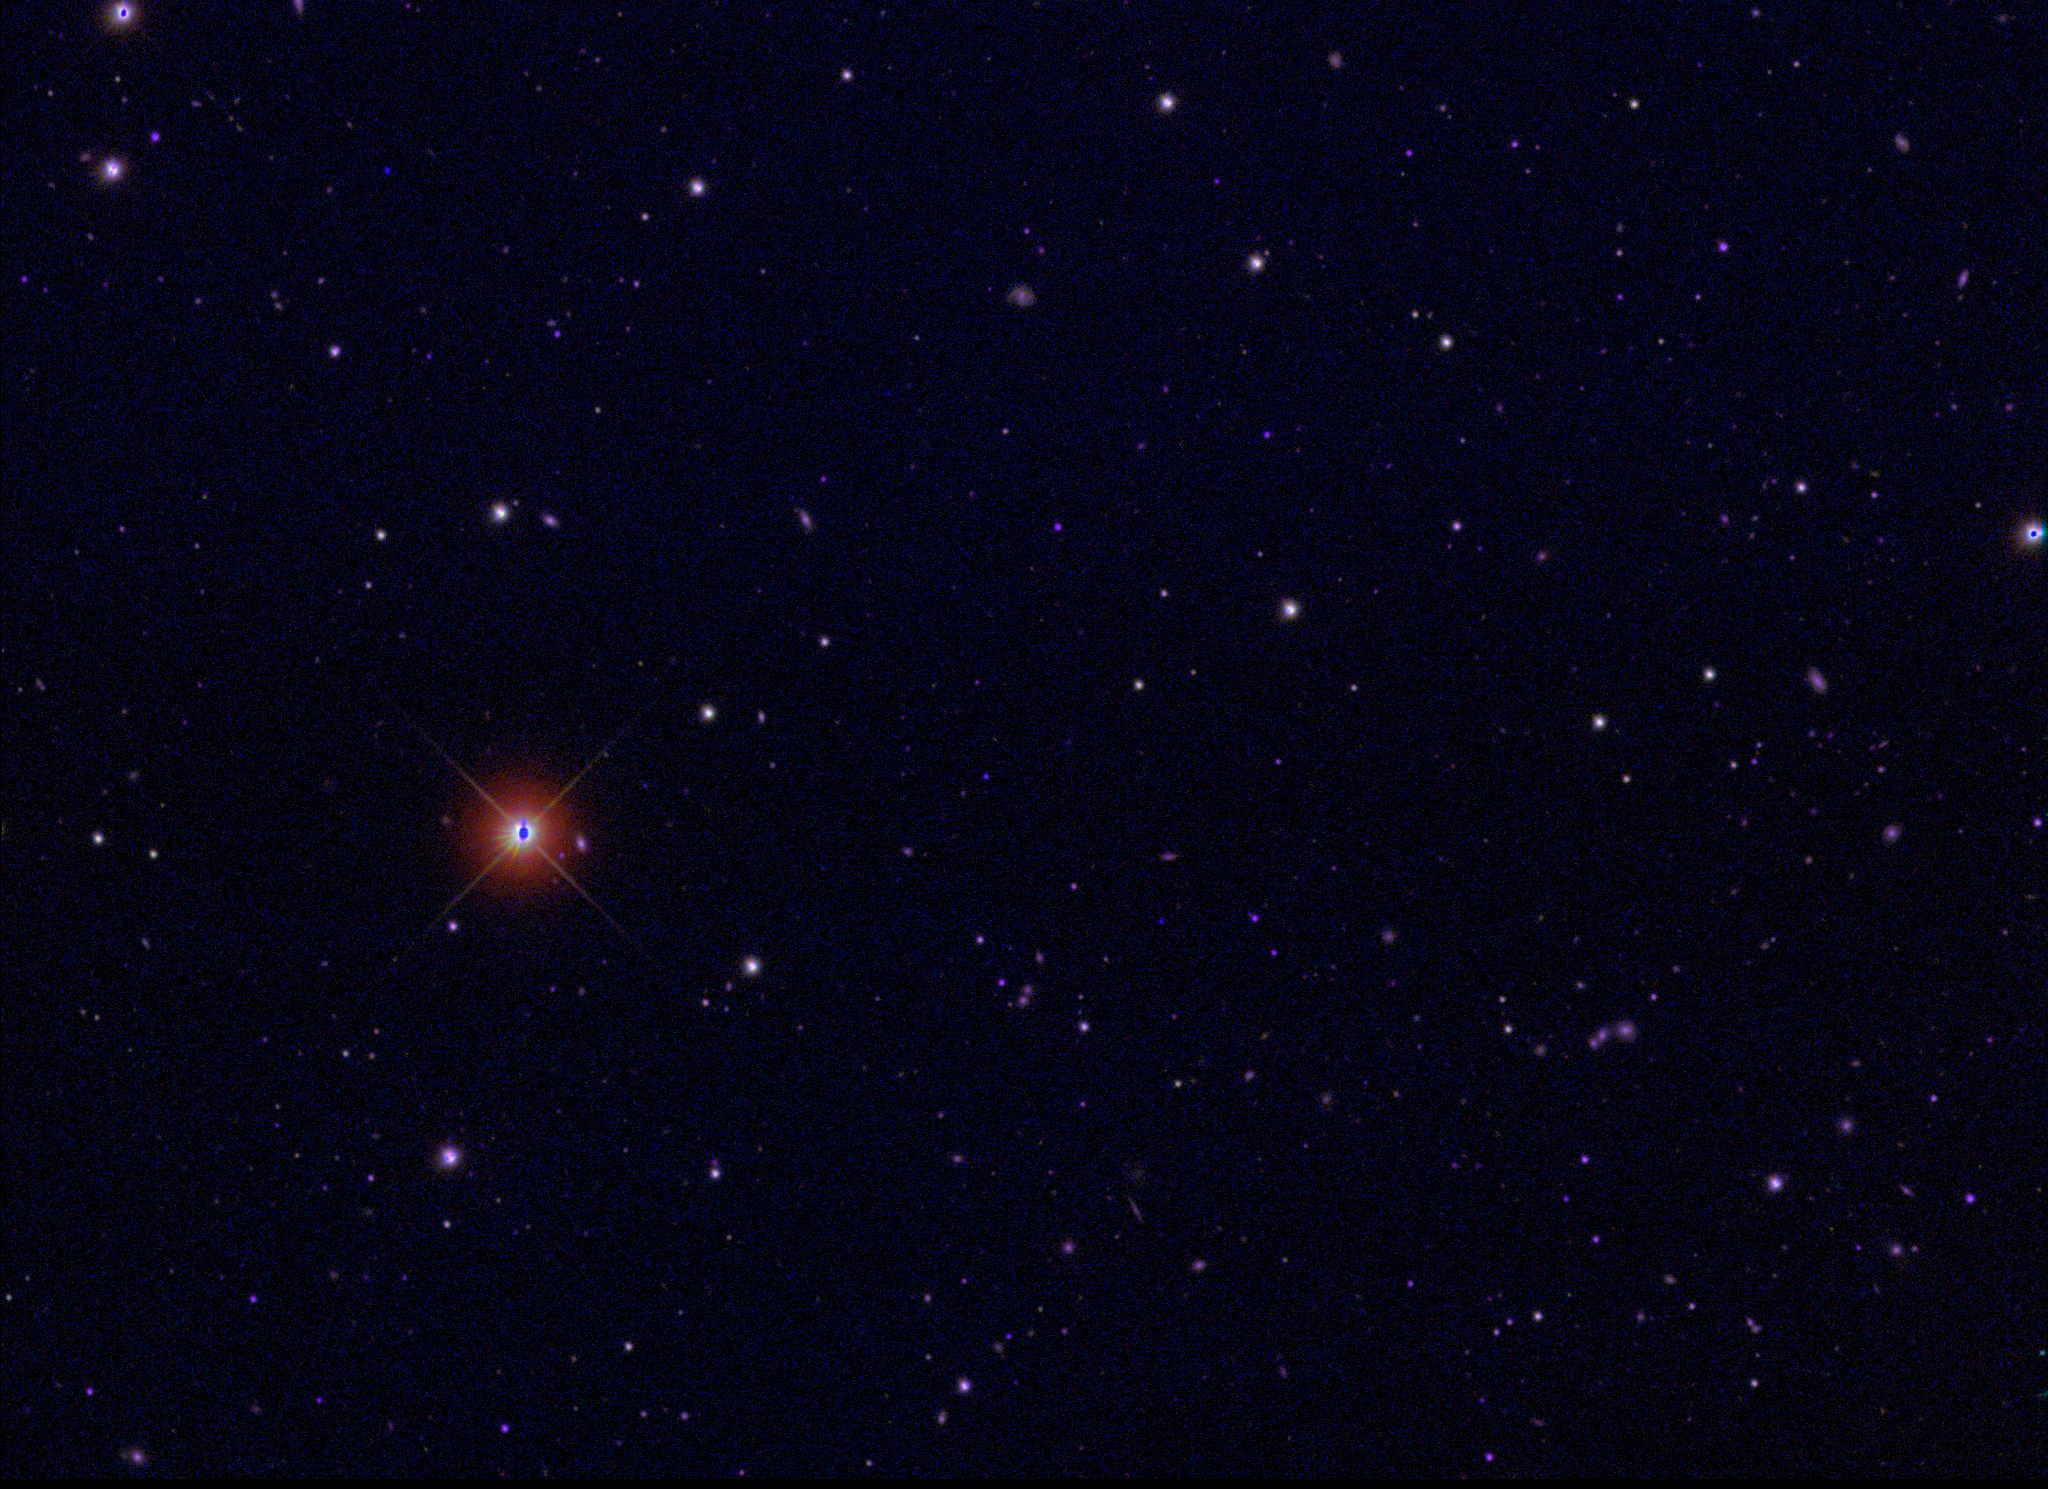L: (382, 162, 394, 177)
